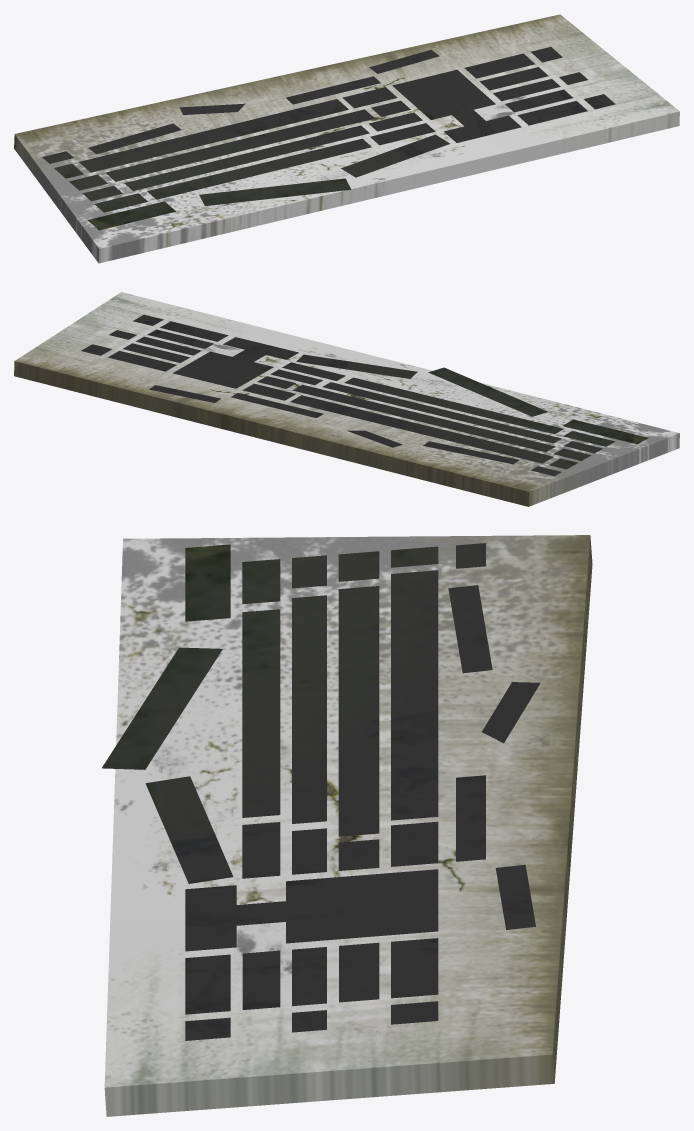
File: keyboard_02.fbx
3 renders of one model, top to bottom at view 1: azimuth 30°, elevation 25°; view 2: azimuth 150°, elevation 25°; view 3: azimuth 270°, elevation 25°, orthographic. The views are drawn at different scales.
Parts seen in each view (by area): view 1: keyboard_02; view 2: keyboard_02; view 3: keyboard_02.
Boxes of the visible parts, x1,y1,x2,y2 form: keyboard_02: [14, 14, 679, 263]; keyboard_02: [14, 292, 679, 506]; keyboard_02: [102, 535, 592, 1116].
Size of the model in its own units: 0.514 by 0.0289 by 0.1941.
